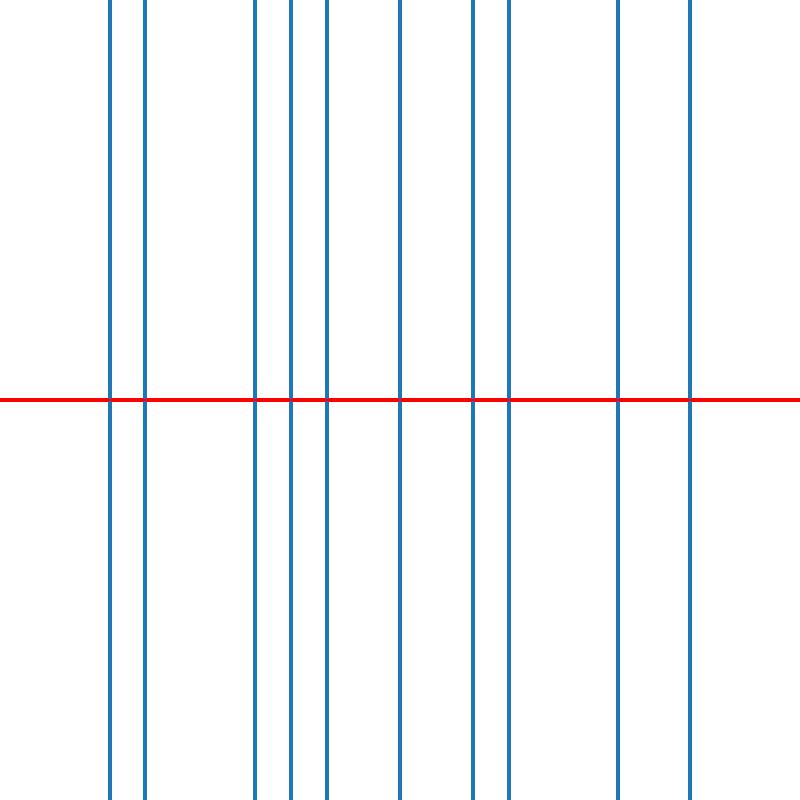root: (141, 396, 149, 404), (250, 396, 258, 404), (614, 396, 621, 404), (105, 396, 112, 404), (469, 396, 476, 404), (505, 396, 512, 404), (396, 396, 403, 404), (687, 396, 694, 404), (323, 396, 330, 404), (287, 396, 294, 404)
